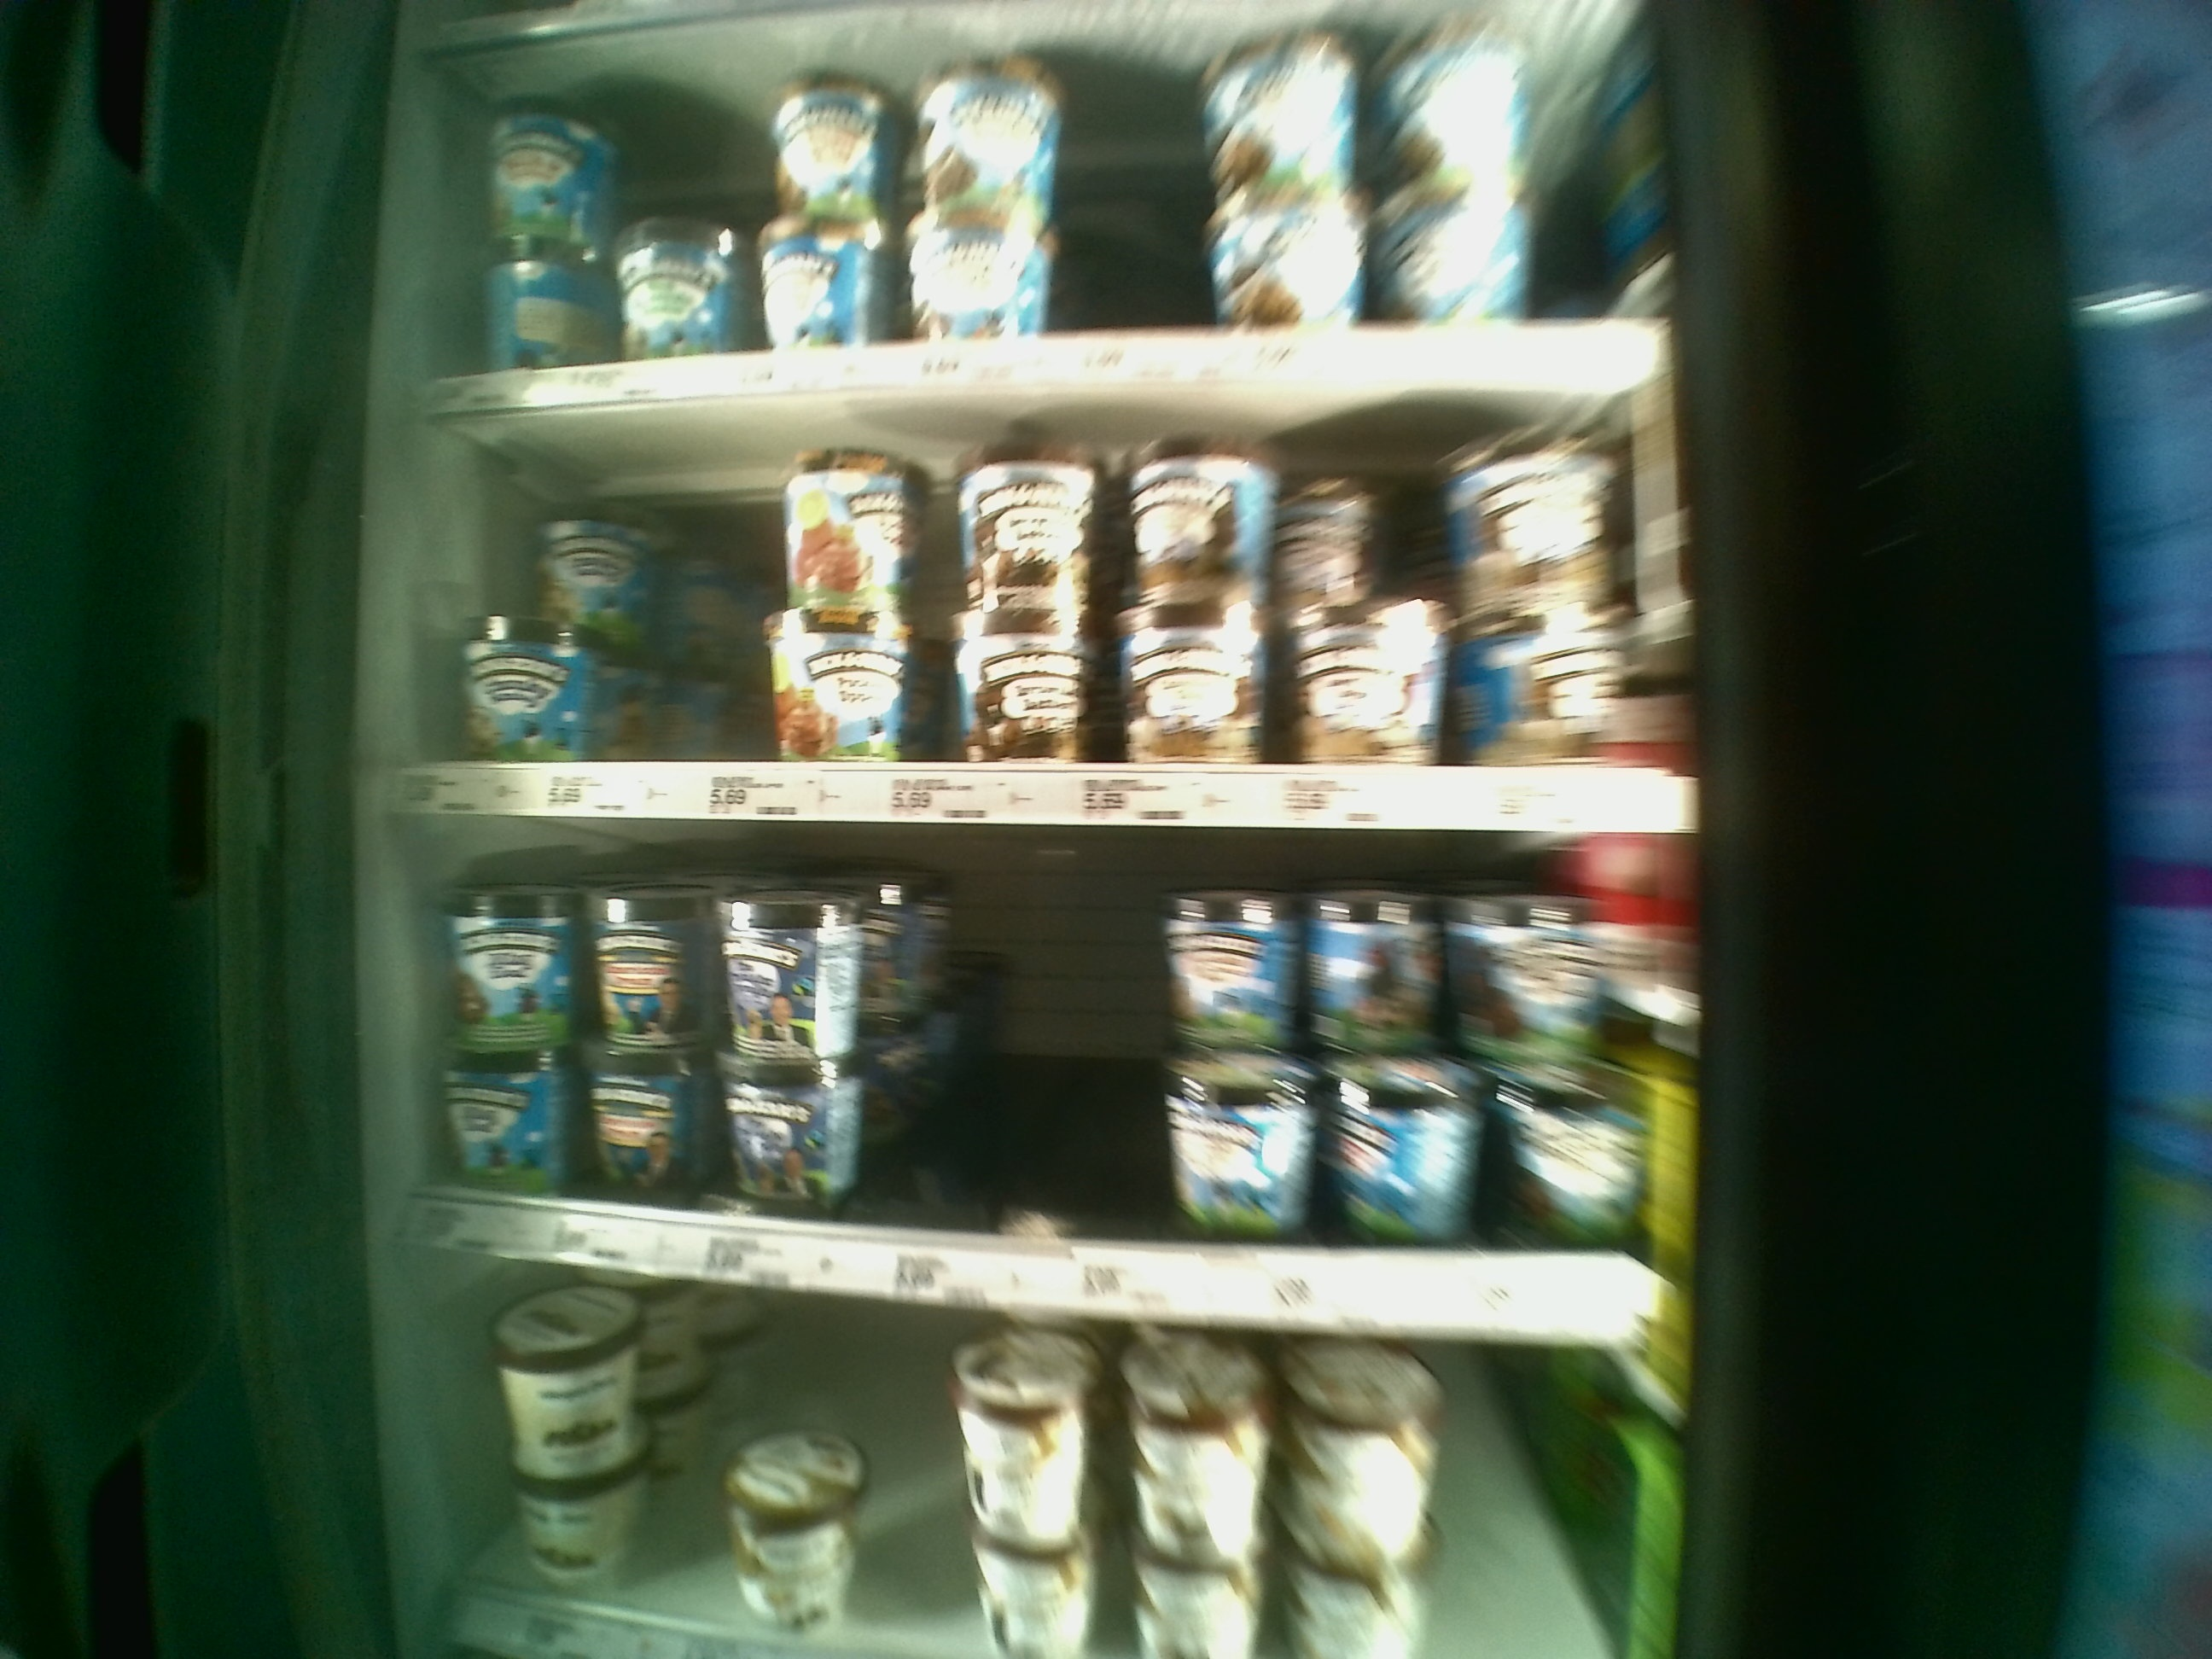shelf: (427, 819, 1679, 1349), (432, 385, 1679, 828)
